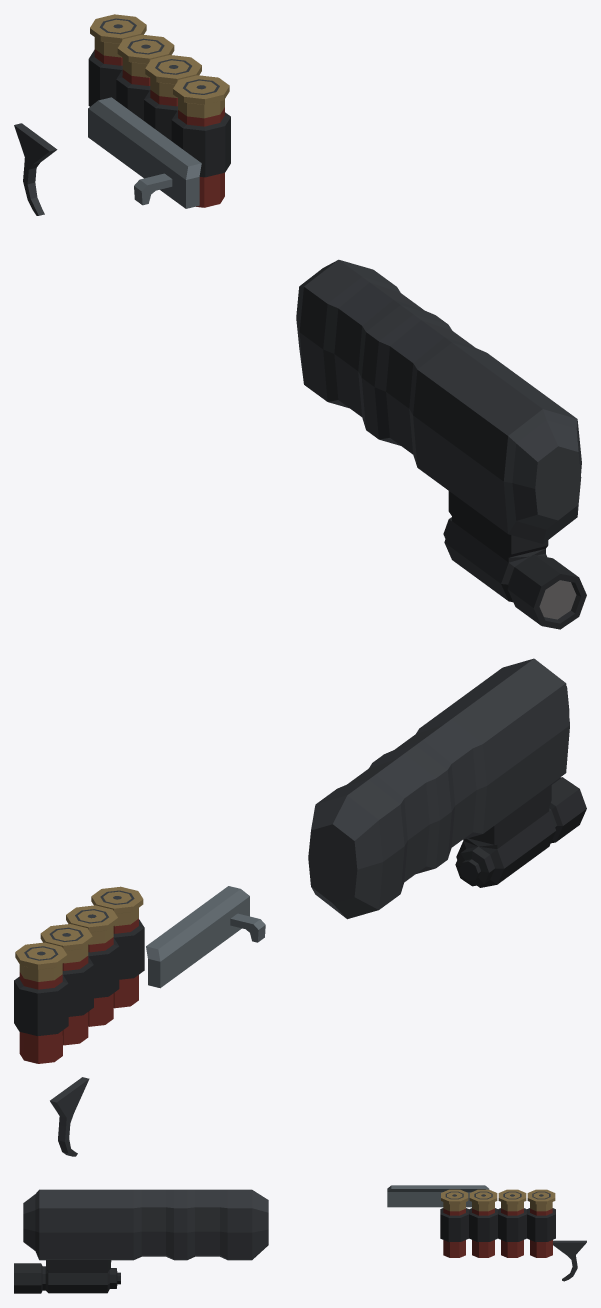
The model's file is SM_Wep_Shotgun_01.fbx.
3 renders of one model, top to bottom at view 1: azimuth 30°, elevation 25°; view 2: azimuth 150°, elevation 25°; view 3: azimuth 270°, elevation 25°, orthographic. The views are drawn at different scales.
Parts seen in each view (by area): view 1: SM_Wep_Shotgun_01, SM_Wep_Shotgun_01_Light_01, SM_Wep_Shotgun_Slide_01, SM_Wep_Shotgun_Trigger_01; view 2: SM_Wep_Shotgun_01, SM_Wep_Shotgun_01_Light_01, SM_Wep_Shotgun_Slide_01, SM_Wep_Shotgun_Trigger_01; view 3: SM_Wep_Shotgun_01, SM_Wep_Shotgun_01_Light_01, SM_Wep_Shotgun_Slide_01, SM_Wep_Shotgun_Trigger_01.
Boxes of the visible parts, bbox=[...] form: SM_Wep_Shotgun_01: bbox=[88, 14, 581, 543]; SM_Wep_Shotgun_01_Light_01: bbox=[443, 491, 586, 629]; SM_Wep_Shotgun_Slide_01: bbox=[88, 97, 201, 208]; SM_Wep_Shotgun_Trigger_01: bbox=[14, 123, 57, 215]; SM_Wep_Shotgun_01: bbox=[14, 658, 569, 1063]; SM_Wep_Shotgun_01_Light_01: bbox=[455, 777, 586, 887]; SM_Wep_Shotgun_Slide_01: bbox=[146, 886, 265, 988]; SM_Wep_Shotgun_Trigger_01: bbox=[50, 1077, 89, 1156]; SM_Wep_Shotgun_01: bbox=[23, 1189, 555, 1260]; SM_Wep_Shotgun_01_Light_01: bbox=[14, 1260, 120, 1293]; SM_Wep_Shotgun_Slide_01: bbox=[387, 1185, 489, 1207]; SM_Wep_Shotgun_Trigger_01: bbox=[553, 1240, 586, 1281].
Size of the model in its own units: 7.66 by 11.82 by 54.04.
1 material, 1 textured.
